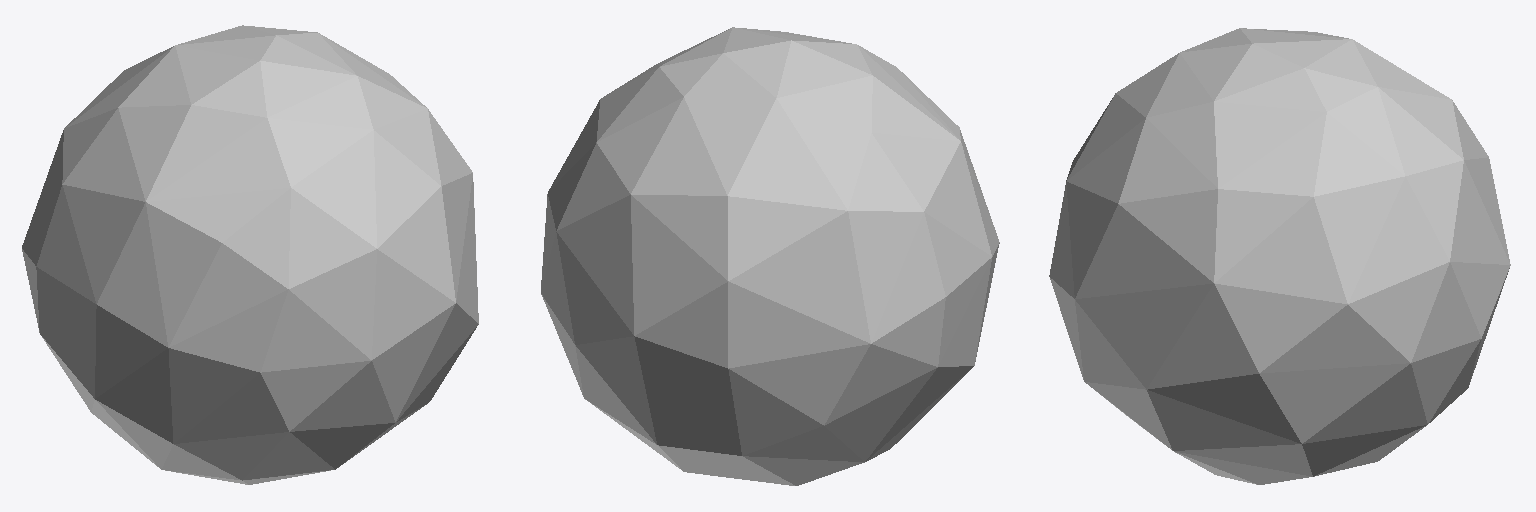
Rendered from Particle_Test.obj.
3 renders of one model, left to right at view 1: azimuth 30°, elevation 25°; view 2: azimuth 150°, elevation 25°; view 3: azimuth 270°, elevation 25°, orthographic.
Size of the model in its own units: 0.1872 by 0.187 by 0.1882.